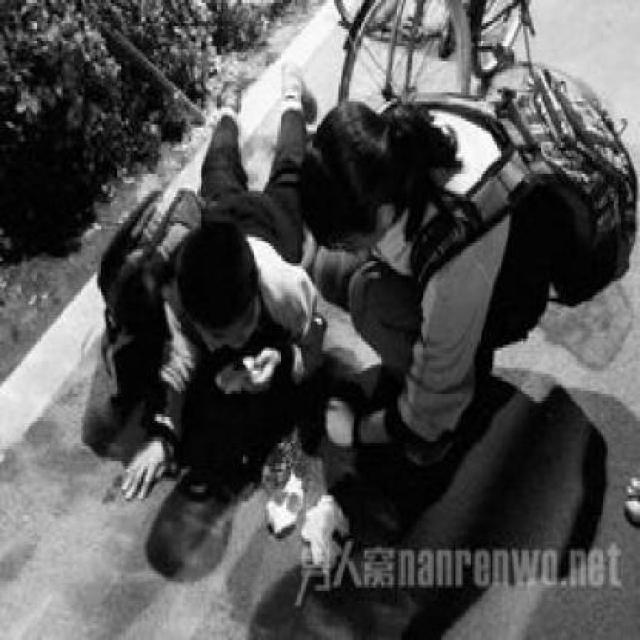fall: (82, 61, 352, 516)
